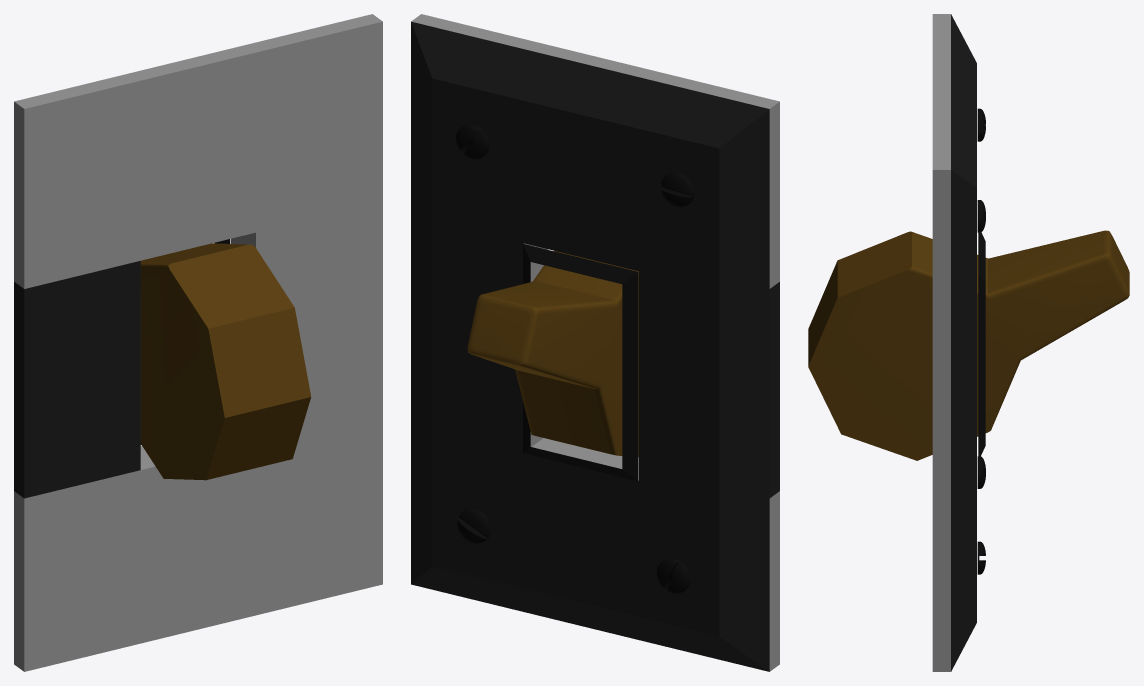
Rendered from lightSwitchAnim.dae.
3 views of the same model, side by side, from view 1: azimuth 30°, elevation 25°; view 2: azimuth 150°, elevation 25°; view 3: azimuth 270°, elevation 25° (orthographic). The views are drawn at different scales.
Visible parts, largest first — view 1: Box001, Cylinder002; view 2: Box001, Cylinder002, Sphere003, Sphere004, Sphere001, Sphere002; view 3: Cylinder002, Box001.
Part boxes in pixels (x1=…): Box001: x1=14, y1=14, x2=382, y2=671; Cylinder002: x1=140, y1=243, x2=311, y2=480; Box001: x1=411, y1=14, x2=779, y2=671; Cylinder002: x1=467, y1=251, x2=638, y2=457; Sphere003: x1=656, y1=558, x2=690, y2=593; Sphere004: x1=457, y1=508, x2=490, y2=543; Sphere001: x1=456, y1=123, x2=489, y2=159; Sphere002: x1=661, y1=171, x2=694, y2=207; Cylinder002: x1=808, y1=230, x2=1129, y2=460; Box001: x1=932, y1=14, x2=985, y2=671.
Size of the model in its own units: 7.87 by 6.86 by 11.81.
